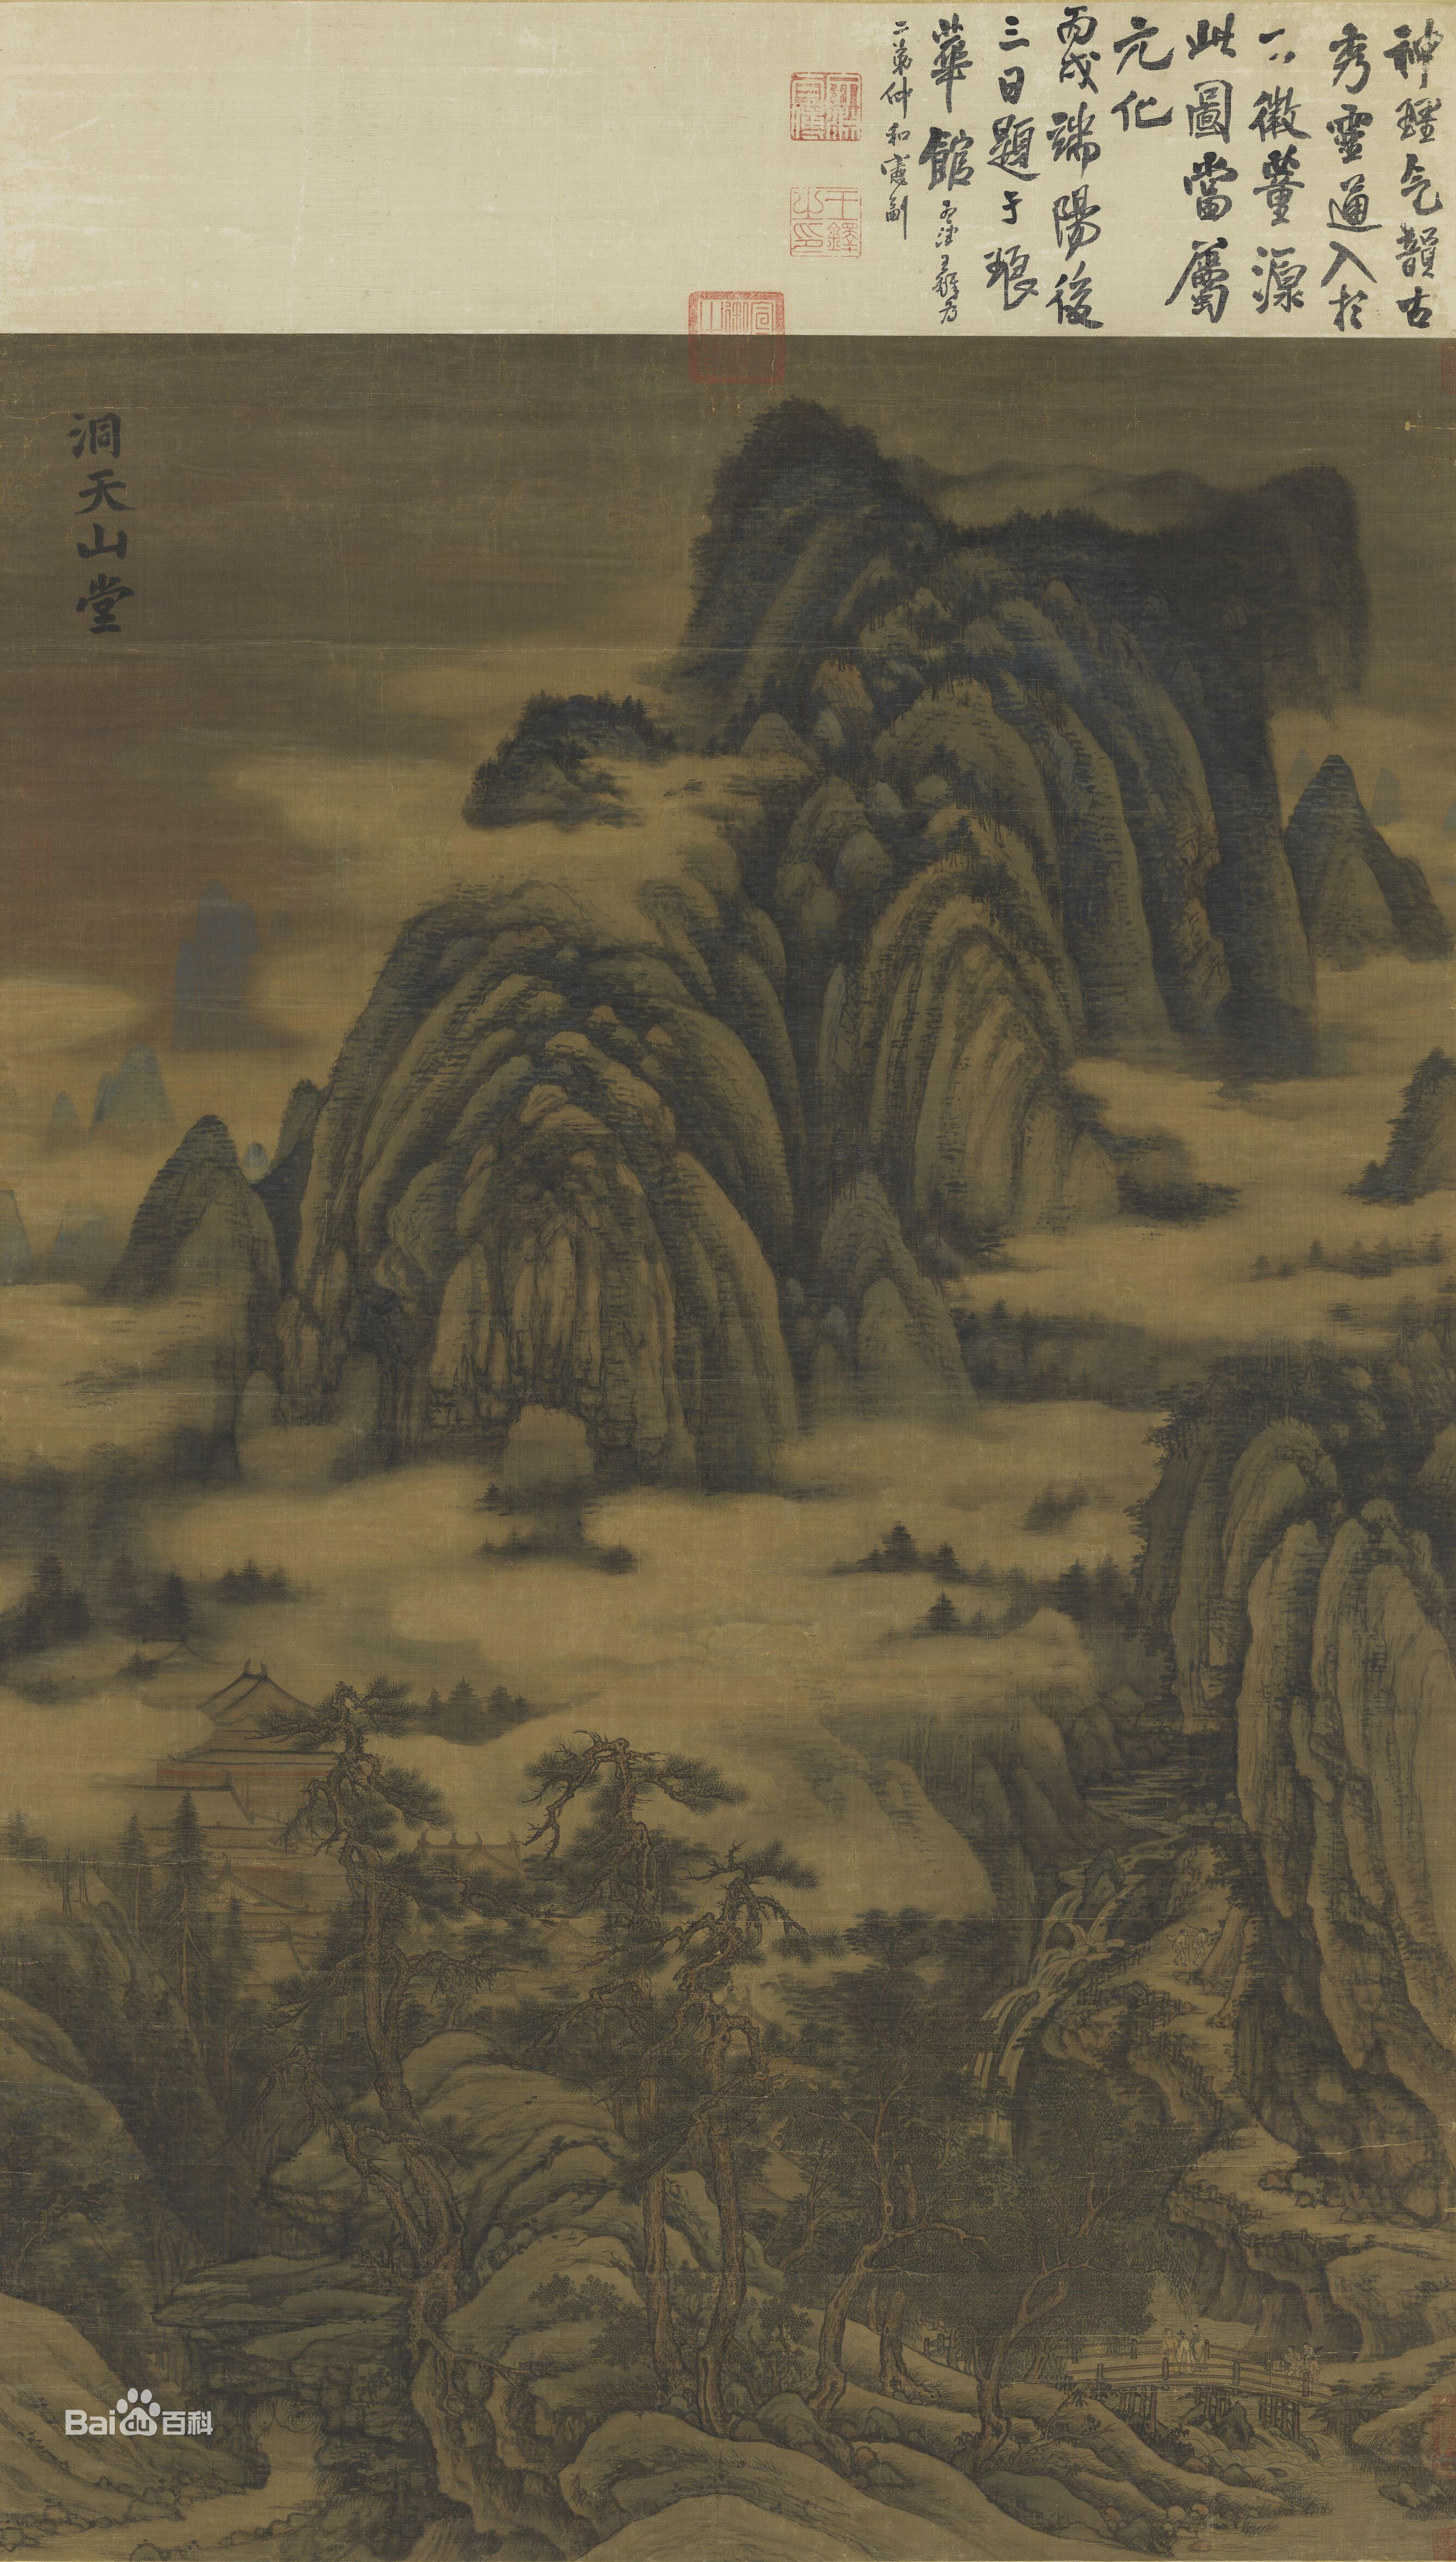bridge: (1066, 2351, 1338, 2430)
cloud: (250, 1471, 957, 1684), (1078, 1052, 1391, 1379), (285, 724, 468, 887), (3, 1298, 161, 1441)
creek: (1252, 2424, 1372, 2544), (1120, 1755, 1181, 1889)
house: (138, 1640, 343, 1944), (416, 1821, 526, 1877), (536, 1913, 604, 1969)
man: (1158, 2326, 1209, 2377), (1283, 2343, 1325, 2385), (1167, 1923, 1190, 1971), (1189, 1925, 1207, 1963)
range: (335, 457, 1274, 1439), (1181, 1394, 1456, 2155)
tree: (537, 1752, 924, 2419)
waterfall: (973, 1973, 1029, 2182)
